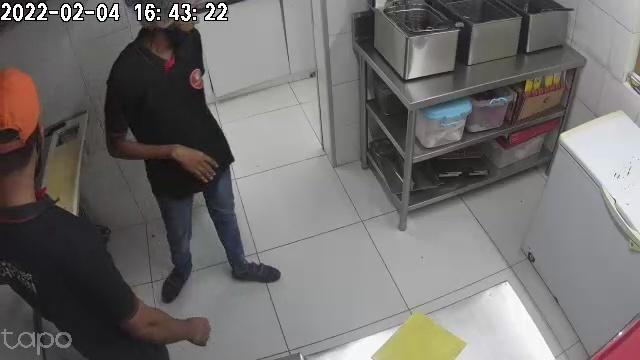no_gloves: (157, 144, 218, 183)
